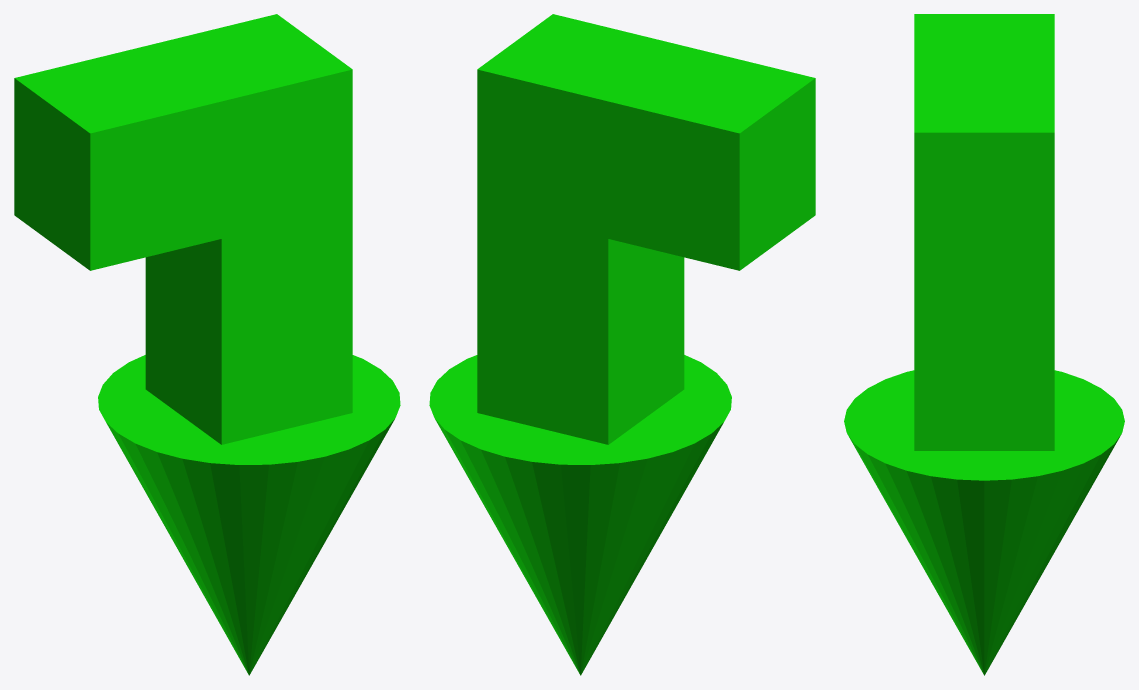
Rendered from greenArrow.dae.
3 views of the same model, side by side, from view 1: azimuth 30°, elevation 25°; view 2: azimuth 150°, elevation 25°; view 3: azimuth 270°, elevation 25° (orthographic). The views are drawn at different scales.
Parts seen in each view (by area): view 1: Cube_001; view 2: Cube_001; view 3: Cube_001.
Part boxes in pixels (x1,y1,x2,y2): Cube_001: (14, 14, 400, 675); Cube_001: (429, 14, 815, 675); Cube_001: (844, 14, 1124, 675).
Size of the model in its own units: 0.0625 by 0.05 by 0.1125.
